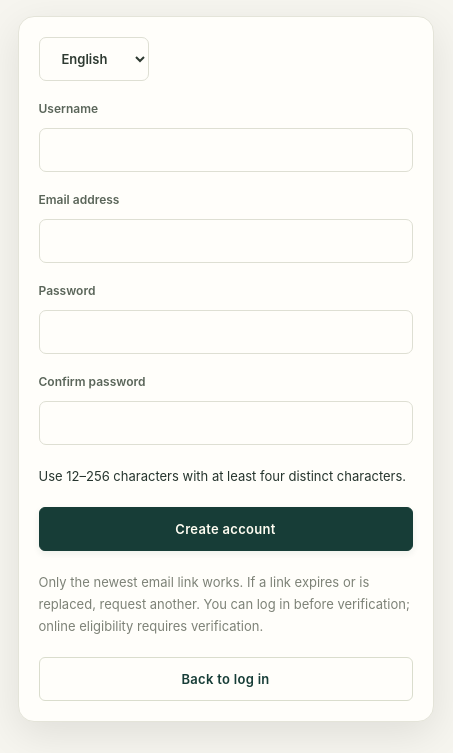
Test case: registers without a session and displays verification guidance
In the field labelled "Username": {"x": 226, "y": 150} [38, 128, 412, 172], type "Raven"
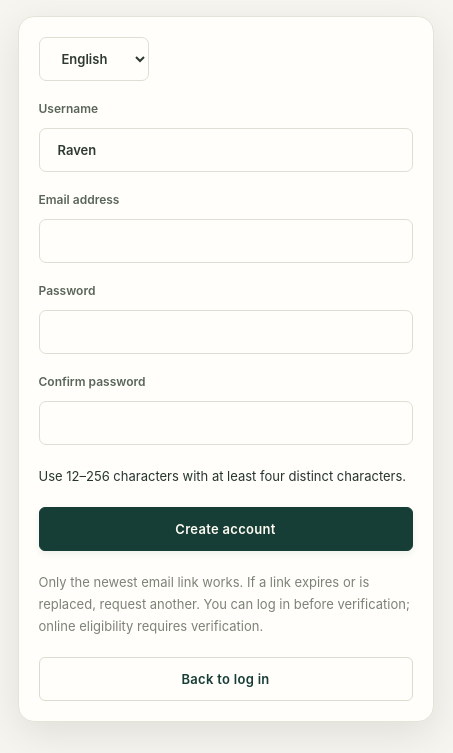
In the field labelled "Email address": {"x": 226, "y": 241} [38, 219, 412, 263], type "raven@example.test"
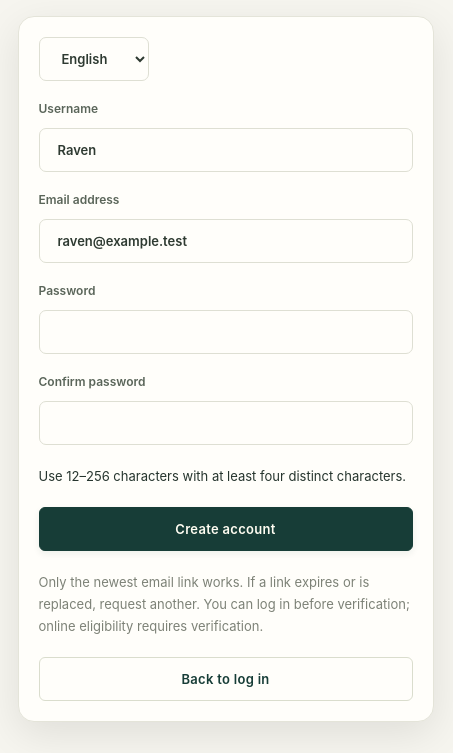
In the password field labelled "Password": {"x": 226, "y": 332} [38, 310, 412, 354], type "test-password-never-store"
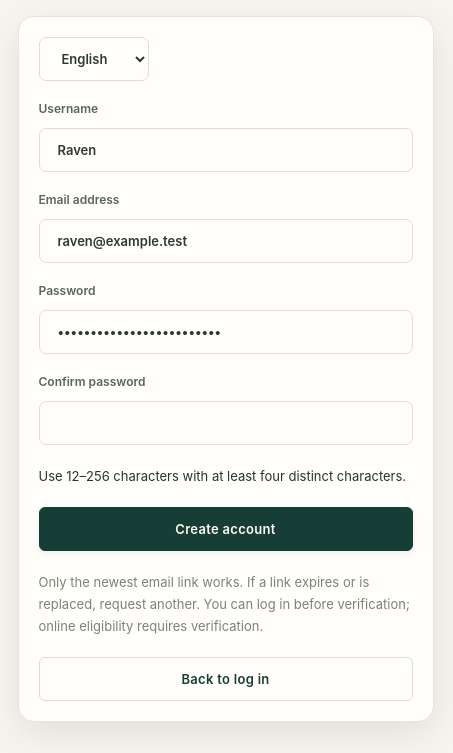
In the password field labelled "Confirm password": {"x": 226, "y": 423} [38, 401, 412, 445], type "test-password-never-store"
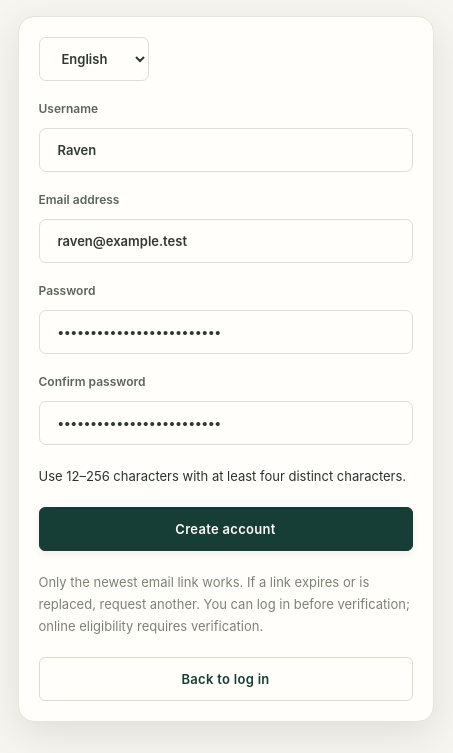
Click the button "Create account": {"x": 226, "y": 529} [38, 507, 412, 551]
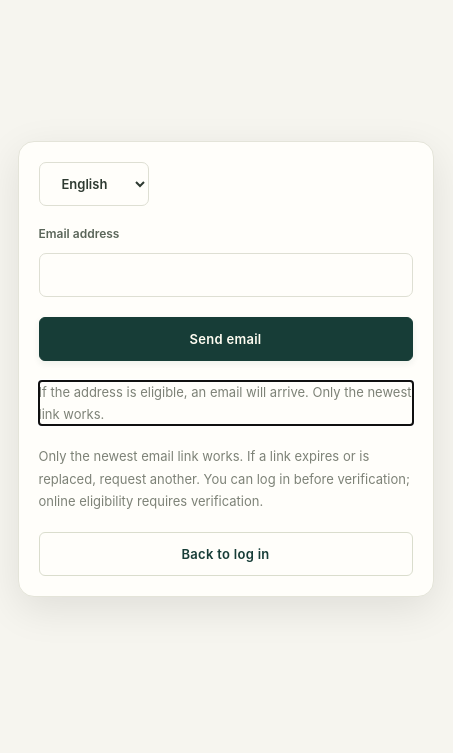
Result: the message shows "If the address is eligible" at [38, 384, 412, 422]
